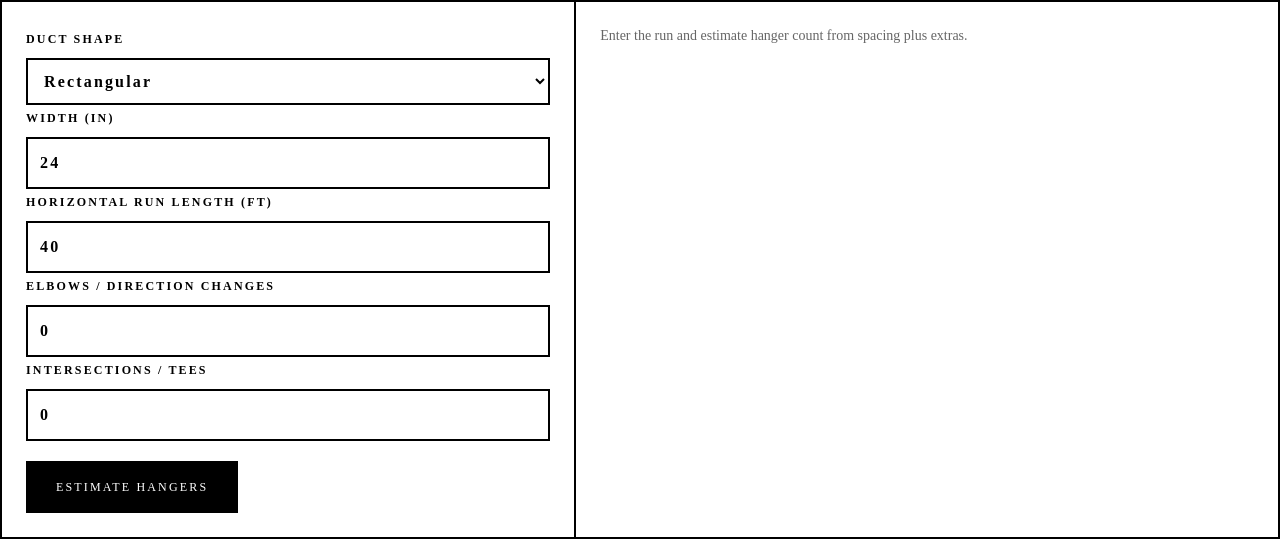
Scenario: HangerSpacingCalculator › reports an extra tee hanger when 10 ft spacing leaves a midspan gap
Select "Round" in the dropdown labelled "Duct shape" at (288, 82), box [26,58,550,105]
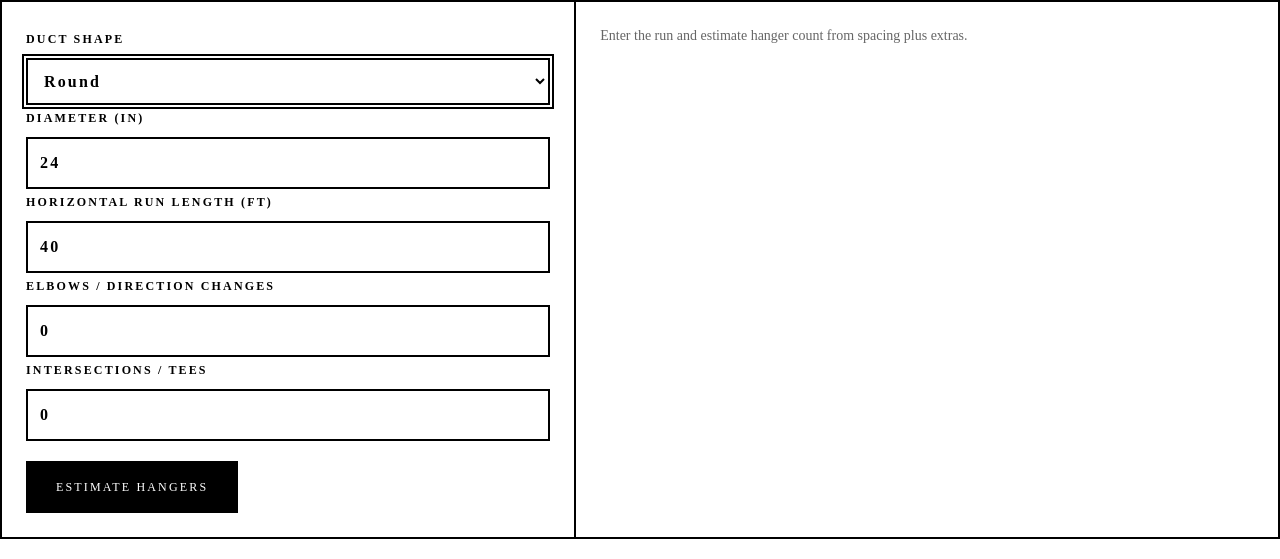
Replace the text in the field labelled "Diameter (in)" with "12" at (288, 163), box [26,137,550,189]
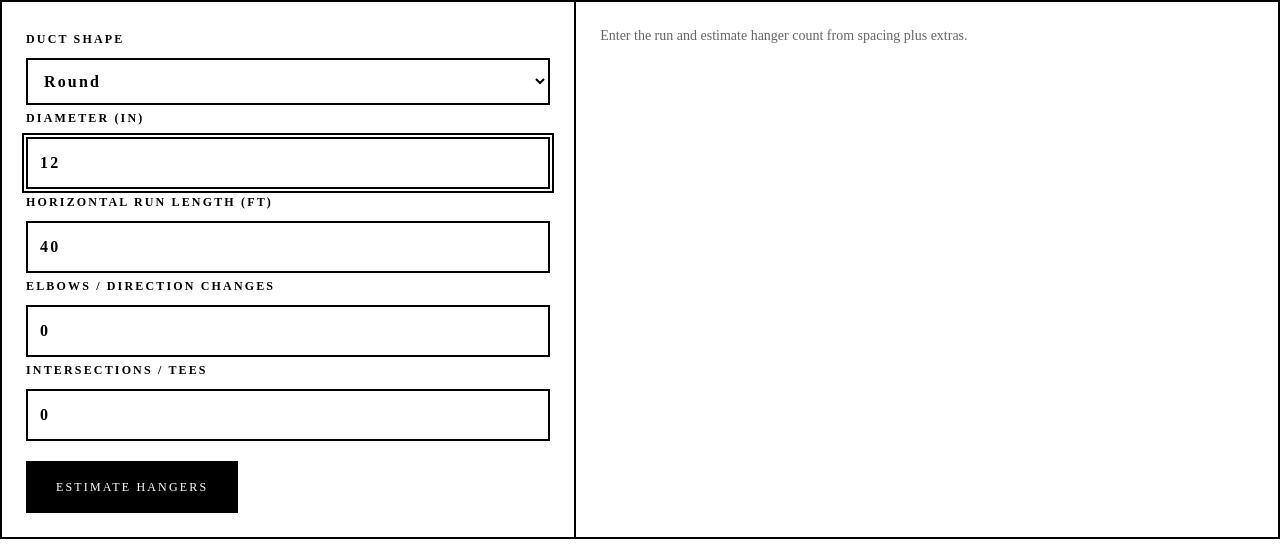
Replace the text in the field labelled "Horizontal run length (ft)" with "50" at (288, 247), box [26,221,550,273]
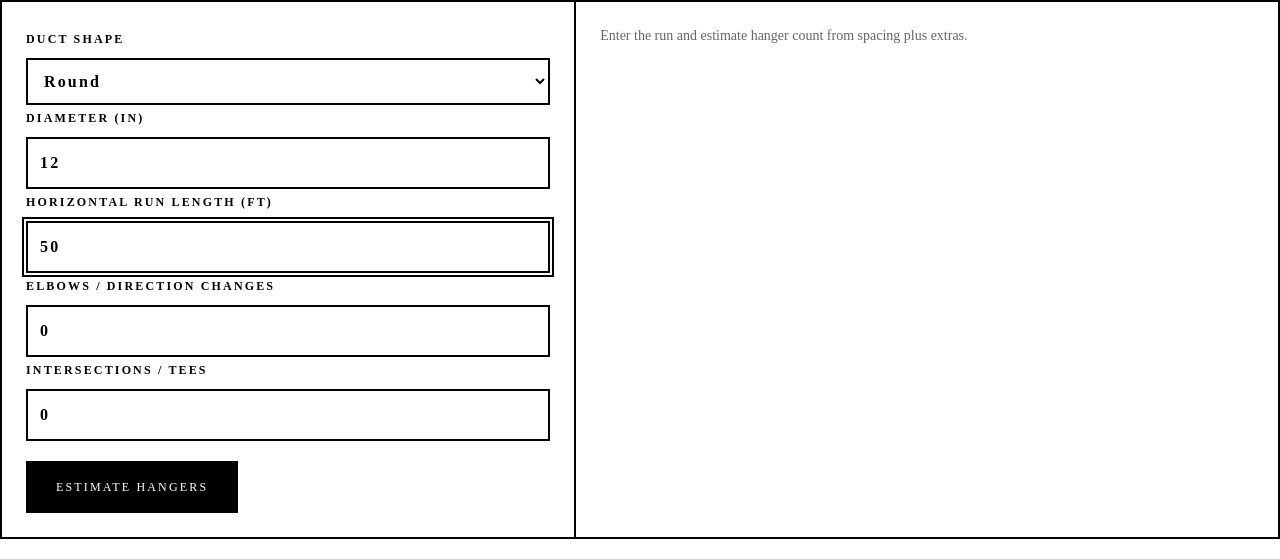
Replace the text in the field labelled "Intersections / tees" with "1" at (288, 415), box [26,389,550,441]
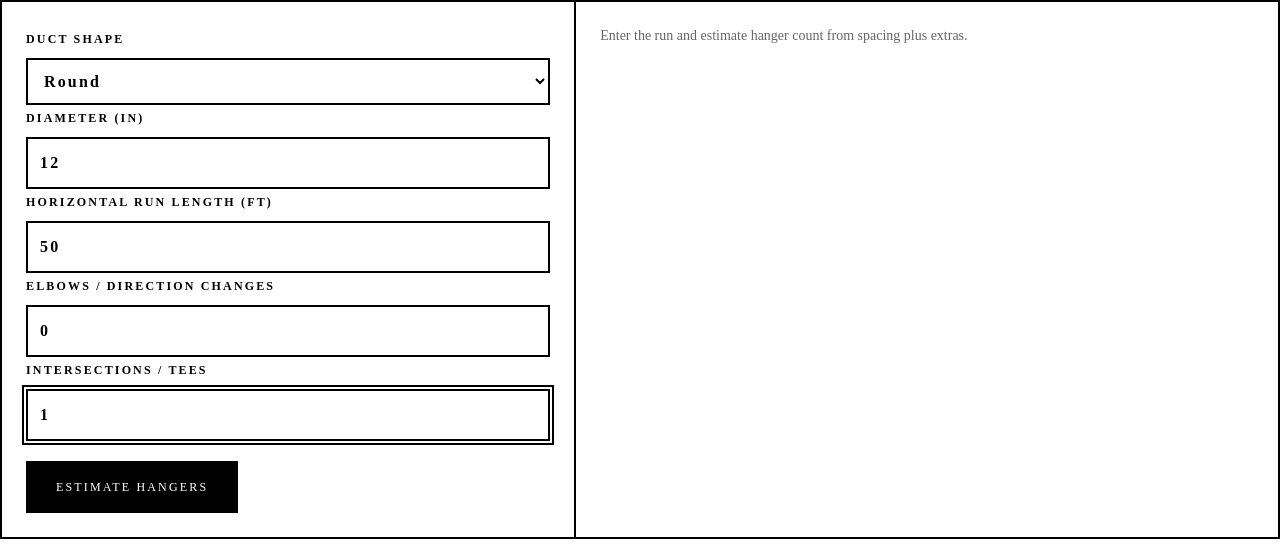
Click the button "Estimate hangers".
click(132, 487)  # box [26,461,238,513]
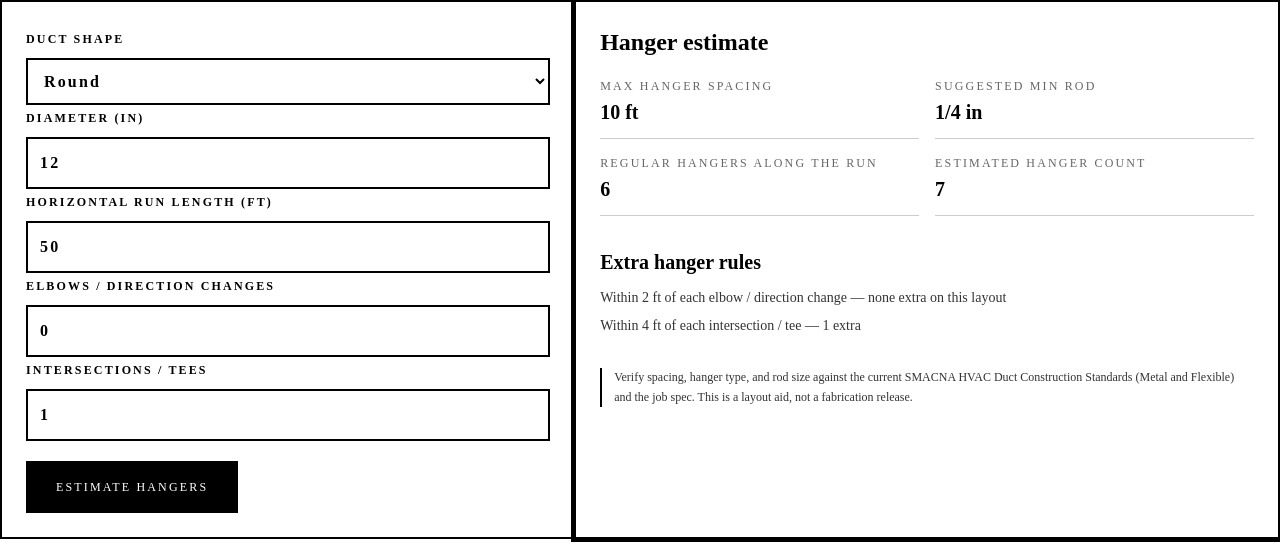
Now the text "10 ft" is shown, box [600,101,638,123]
Now the list item "Within 4 ft of each intersection / tee — 1 extra" is shown, box [600,318,861,333]
